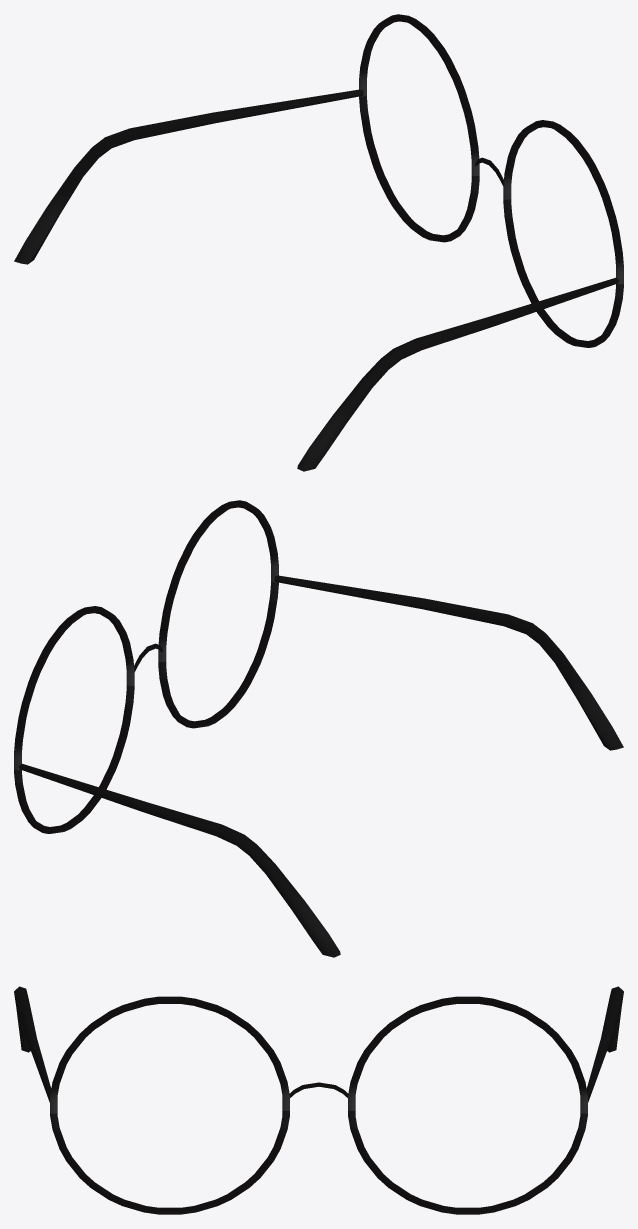
Rendered from 06-glasses-135223549735037.glb.
3 renders of one model, top to bottom at view 1: azimuth 30°, elevation 25°; view 2: azimuth 150°, elevation 25°; view 3: azimuth 270°, elevation 25°, orthographic. The views are drawn at different scales.
Parts seen in each view (by area): view 1: 06-glasses-135223549735037; view 2: 06-glasses-135223549735037; view 3: 06-glasses-135223549735037.
Boxes of the visible parts, x1,y1,x2,y2 form: 06-glasses-135223549735037: (14, 14, 623, 471); 06-glasses-135223549735037: (14, 500, 623, 957); 06-glasses-135223549735037: (14, 986, 623, 1214).
Size of the model in its own units: 0.8364 by 0.4983 by 1.27.
Materials: 1 (1 with a texture image).
